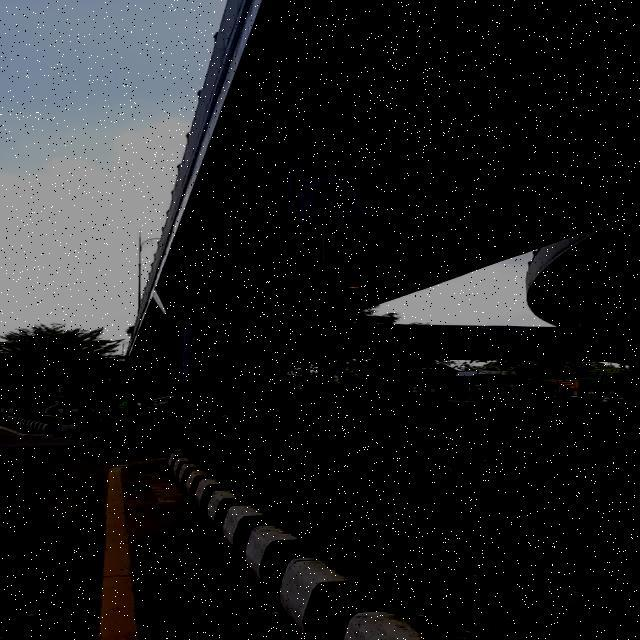Putar Balik: (287, 170, 375, 233)
